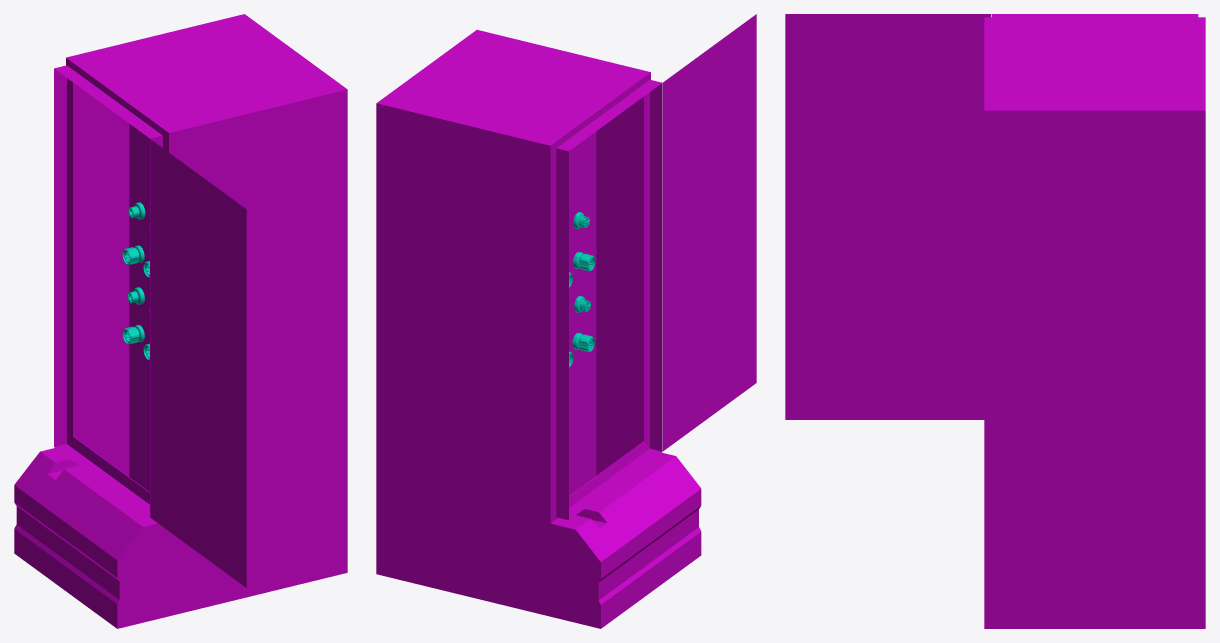
The model's file is power-box-block.dae.
3 renders of one model, left to right at view 1: azimuth 30°, elevation 25°; view 2: azimuth 150°, elevation 25°; view 3: azimuth 270°, elevation 25°, orthographic. The views are drawn at different scales.
Visible parts, largest first — view 1: box, box-door, shtekers; view 2: box, box-door, shtekers; view 3: box, box-door.
Part boxes in pixels (x1,y1,x2,y2): box: (14, 14, 347, 628); box-door: (150, 139, 246, 587); shtekers: (122, 202, 149, 360); box: (376, 30, 701, 628); box-door: (663, 14, 756, 451); shtekers: (569, 212, 595, 367); box: (984, 14, 1205, 628); box-door: (785, 14, 991, 419).
Bounding box in the file's own units: 0.682 × 1.01 × 1.37.
